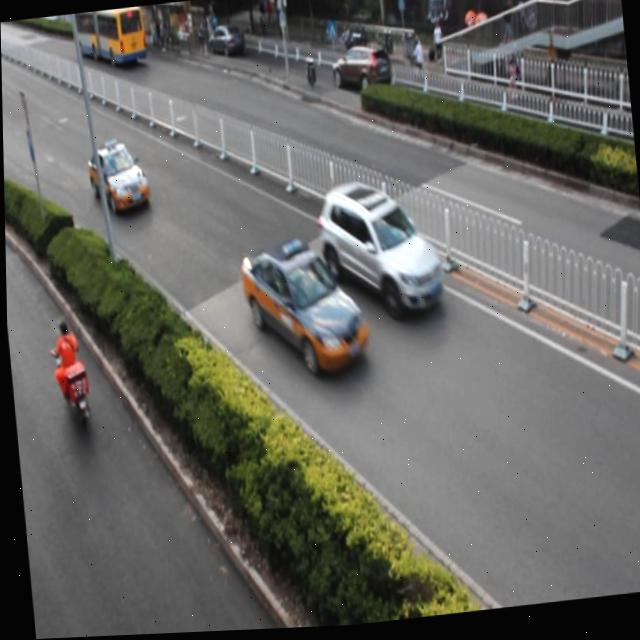car: (313, 177, 444, 330), (237, 237, 370, 386), (85, 141, 149, 219), (328, 44, 391, 103), (205, 24, 245, 63)
van: (67, 7, 145, 74)
